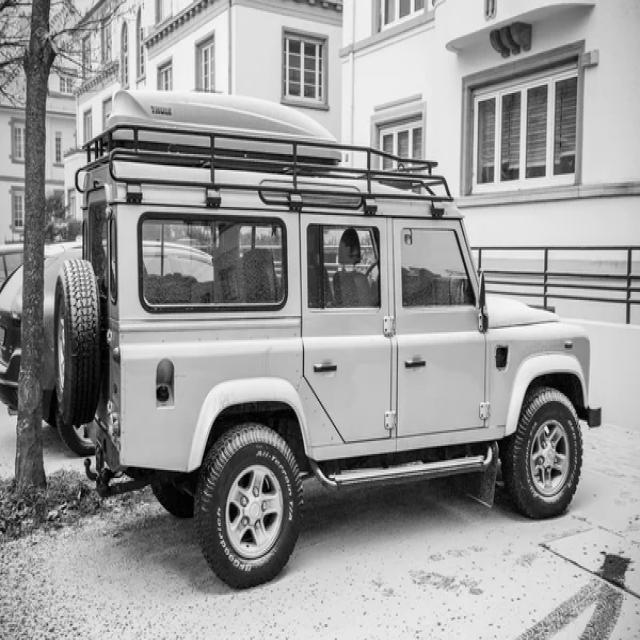Car: (54, 90, 600, 588)
Tree: (14, 0, 55, 491)
